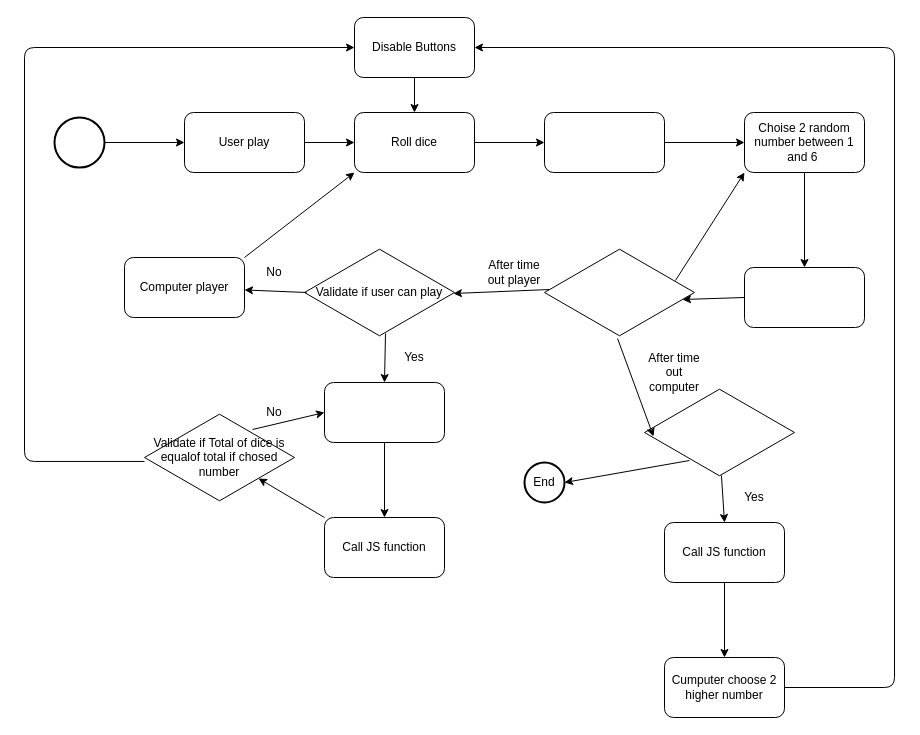
Some shapes in this 920 by 735 pixel diagram are drawn without their labels. The centre of each missing label's shape, as x and y in pixels:
"Call javascript function" belongs at point (604, 142).
"Do this 3 seg" belongs at point (619, 292).
"Player choise witch number eliminate" belongs at point (384, 412).
"Show this number in dice" belongs at point (804, 297).
"Validate if computer can play" belongs at point (719, 432).
